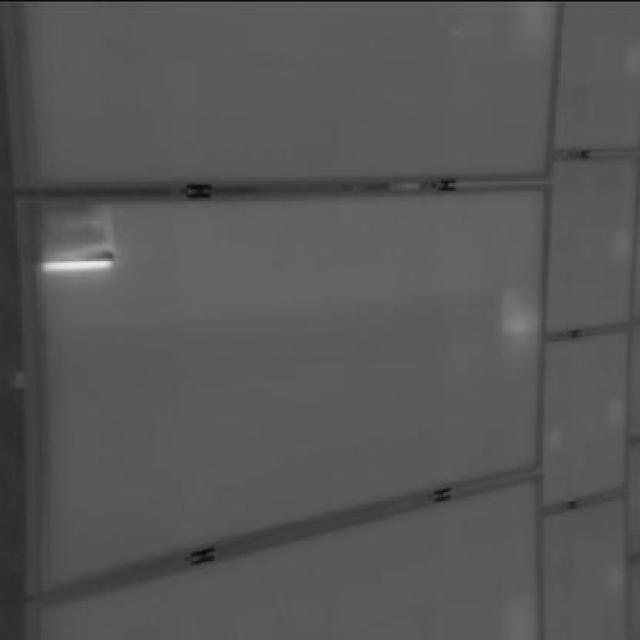hotspot: (32, 196, 119, 276)
